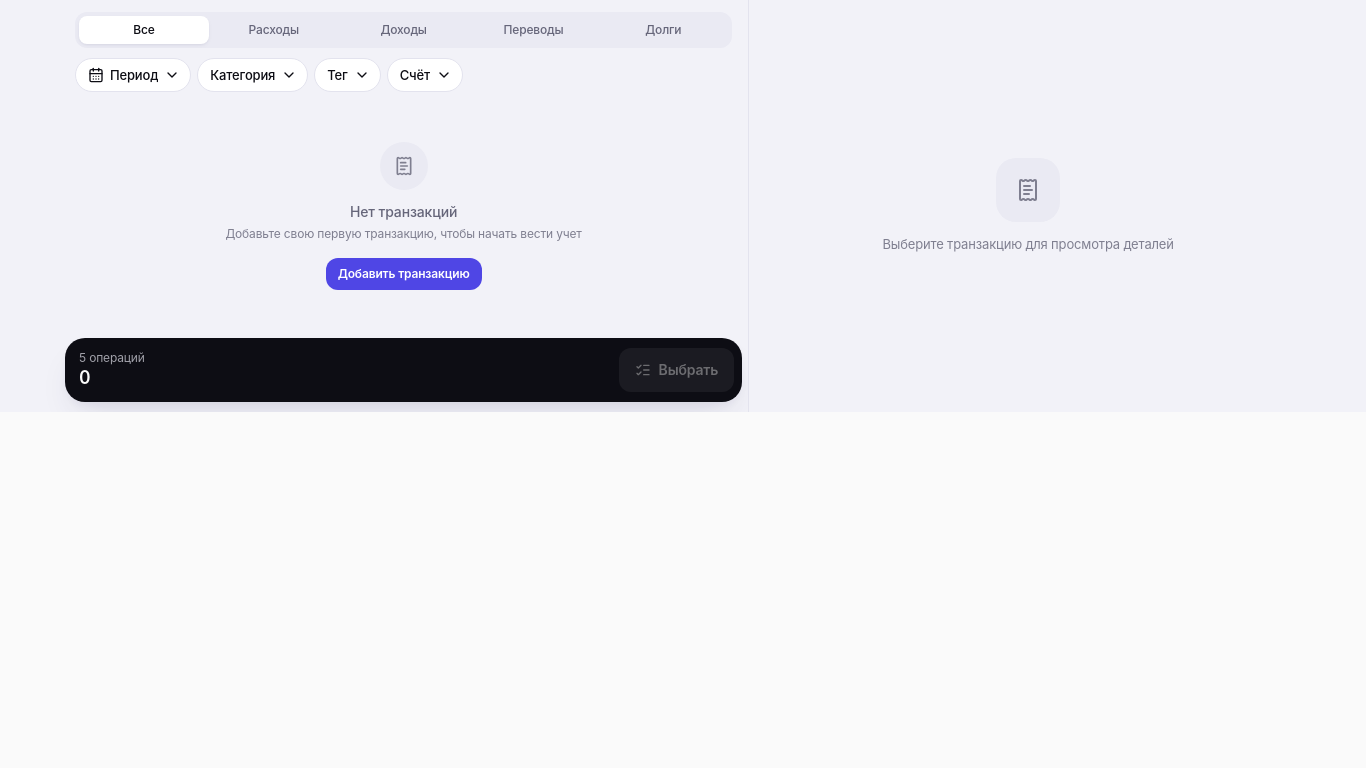
Test case: HistoryPage › facet chips › show button › with 5 results reads «Показать 5 операций»
This screenshot has width=1366, height=768.
Click the button with test id "facet-chip-category" at (253, 75), box [198, 59, 307, 91]
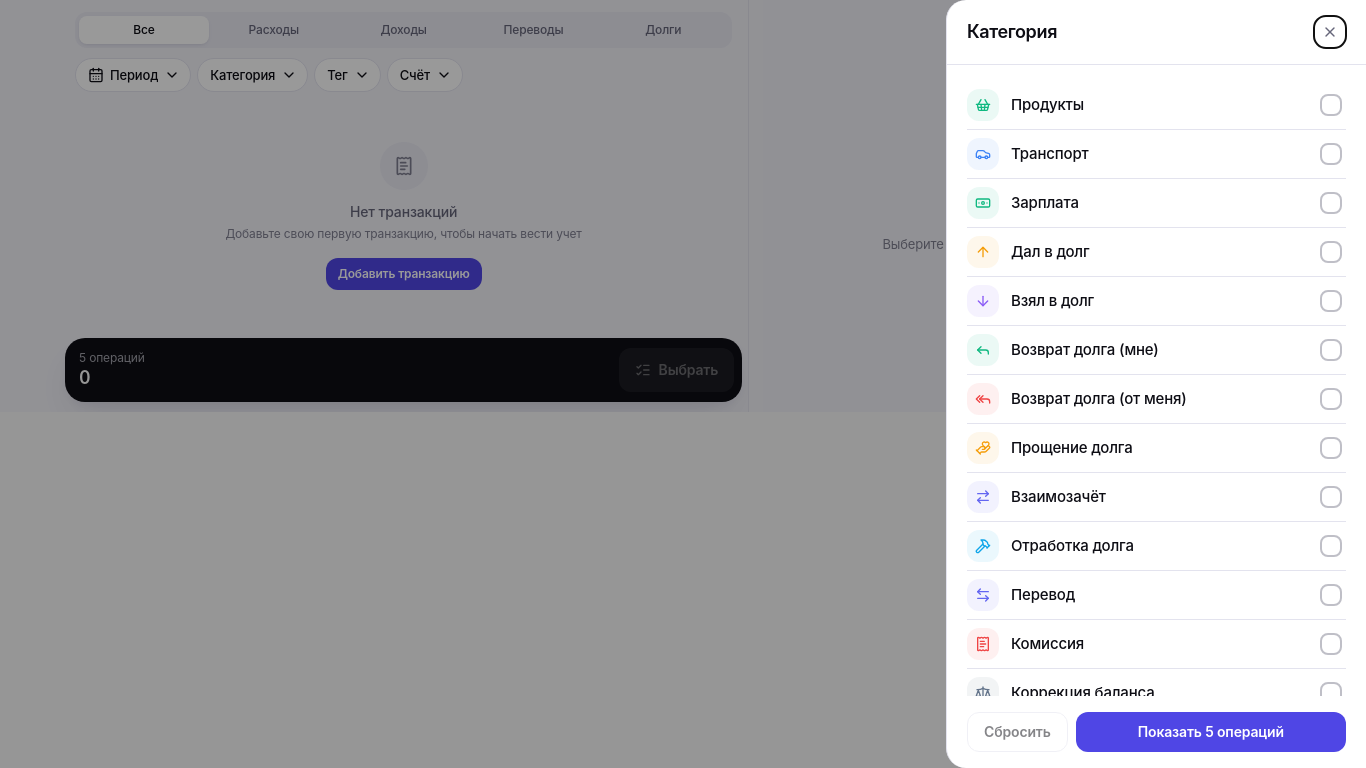
expect the button with test id "facet-show" reads "Показать 5 операций": met, box [1076, 712, 1346, 752]
